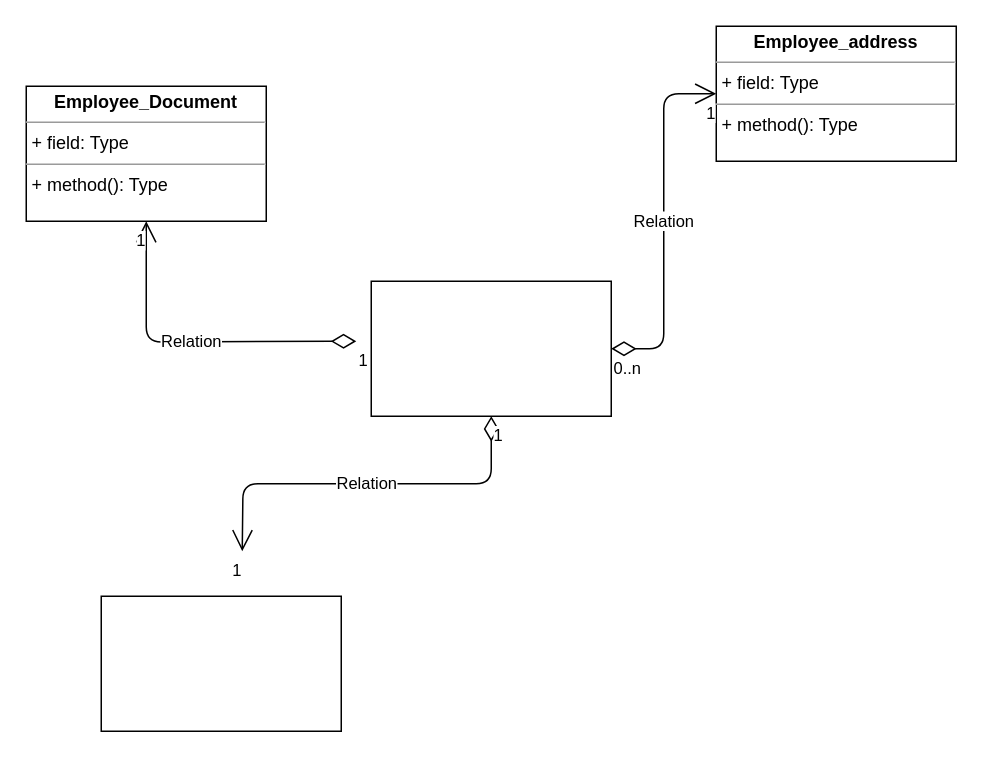
Image size: 983x758. Some labels were removed from this diagram. Each missing label, with the centre of its shape:
"Employee + field: Type + method(): Type" belongs at (490,348).
"Employee_Detail + field: Type + method(): Type" belongs at (220,663).
